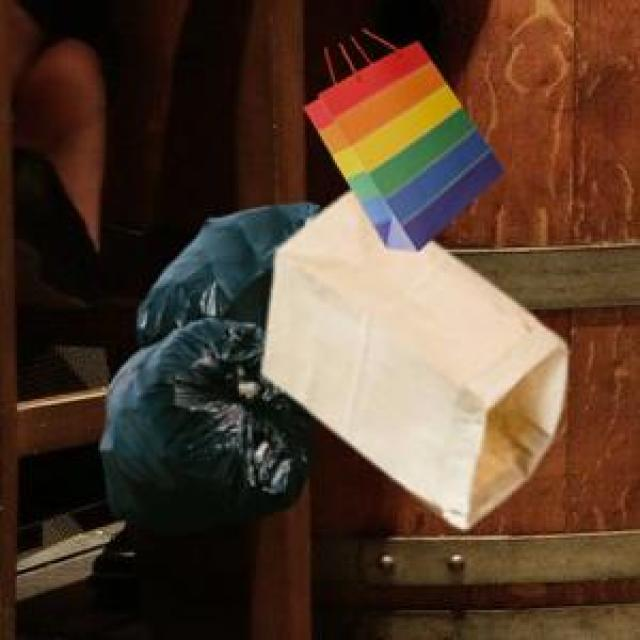miscellaneous trash: (96, 198, 320, 531)
paper: (258, 186, 563, 525), (301, 38, 499, 248)
